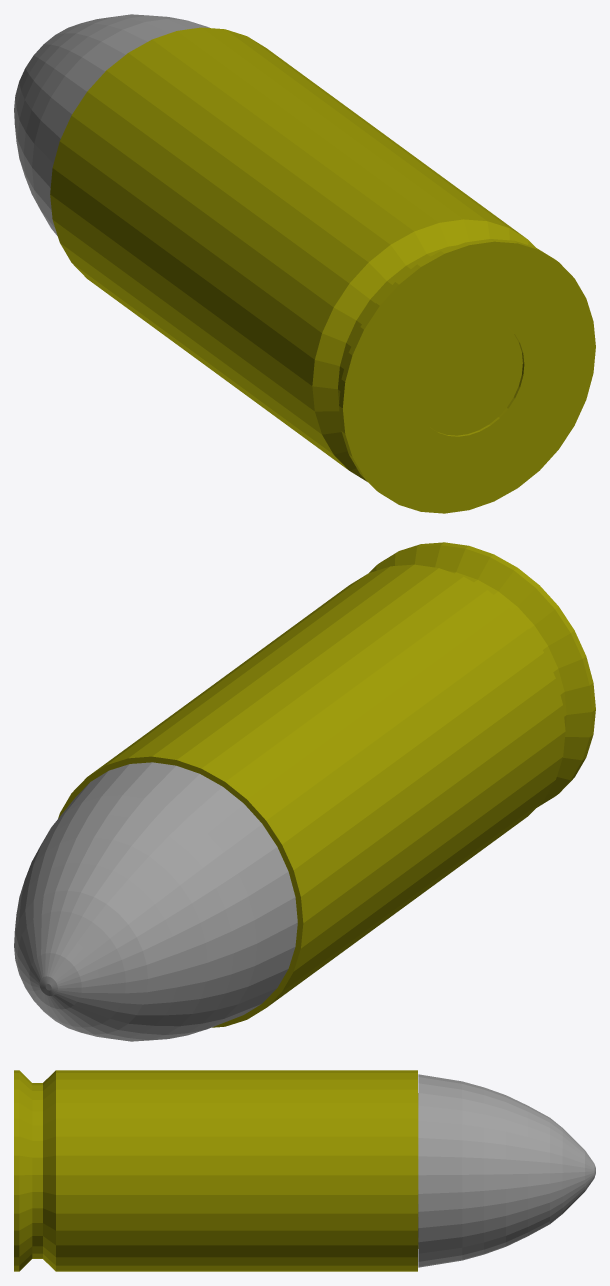
Rendered from bullet.fbx.
3 renders of one model, top to bottom at view 1: azimuth 30°, elevation 25°; view 2: azimuth 150°, elevation 25°; view 3: azimuth 270°, elevation 25°, orthographic. The views are drawn at different scales.
Visible parts, largest first — view 1: Cylinder; view 2: Cylinder; view 3: Cylinder.
Boxes of the visible parts, left/top/right/bottom form: Cylinder: left=14, top=14, right=595, bottom=513; Cylinder: left=14, top=542, right=595, bottom=1041; Cylinder: left=14, top=1070, right=595, bottom=1271.
Size of the model in its own units: 100 by 100 by 288.
